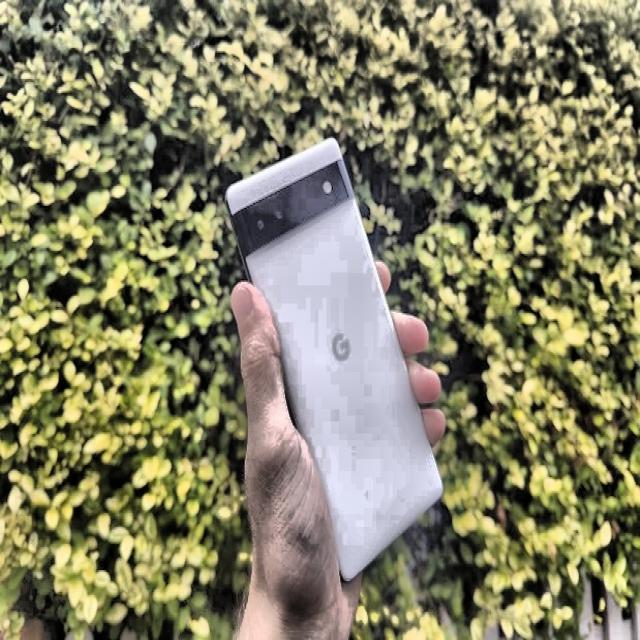Phone: (224, 132, 446, 594)
